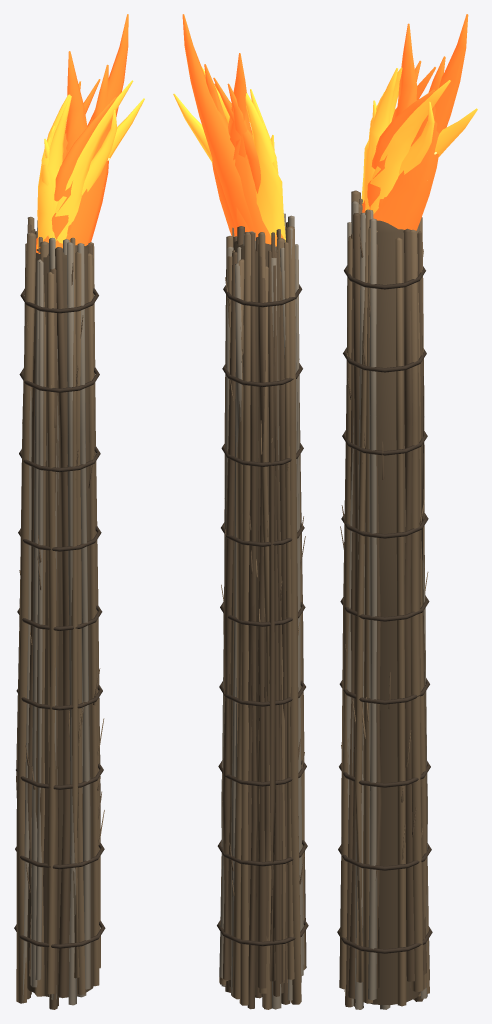
Rendered from fracchera_main.meshopt.glb.
The picture shows the model from 3 angles, left to right: view 1: azimuth 30°, elevation 25°; view 2: azimuth 150°, elevation 25°; view 3: azimuth 330°, elevation 25°; orthographic projection. The views are drawn at different scales.
Visible parts, largest first — view 1: Fracchera_Bundle, Fracchera_Flame_Static; view 2: Fracchera_Bundle, Fracchera_Flame_Static; view 3: Fracchera_Bundle, Fracchera_Flame_Static.
Part boxes in pixels (bbox=[...]): Fracchera_Bundle: bbox=[14, 216, 105, 1009]; Fracchera_Flame_Static: bbox=[36, 14, 144, 253]; Fracchera_Bundle: bbox=[217, 213, 308, 1009]; Fracchera_Flame_Static: bbox=[173, 14, 285, 246]; Fracchera_Bundle: bbox=[337, 190, 432, 1009]; Fracchera_Flame_Static: bbox=[361, 14, 477, 230].
Bounding box in the file's own units: 0.6046 × 4.37 × 0.3776.
